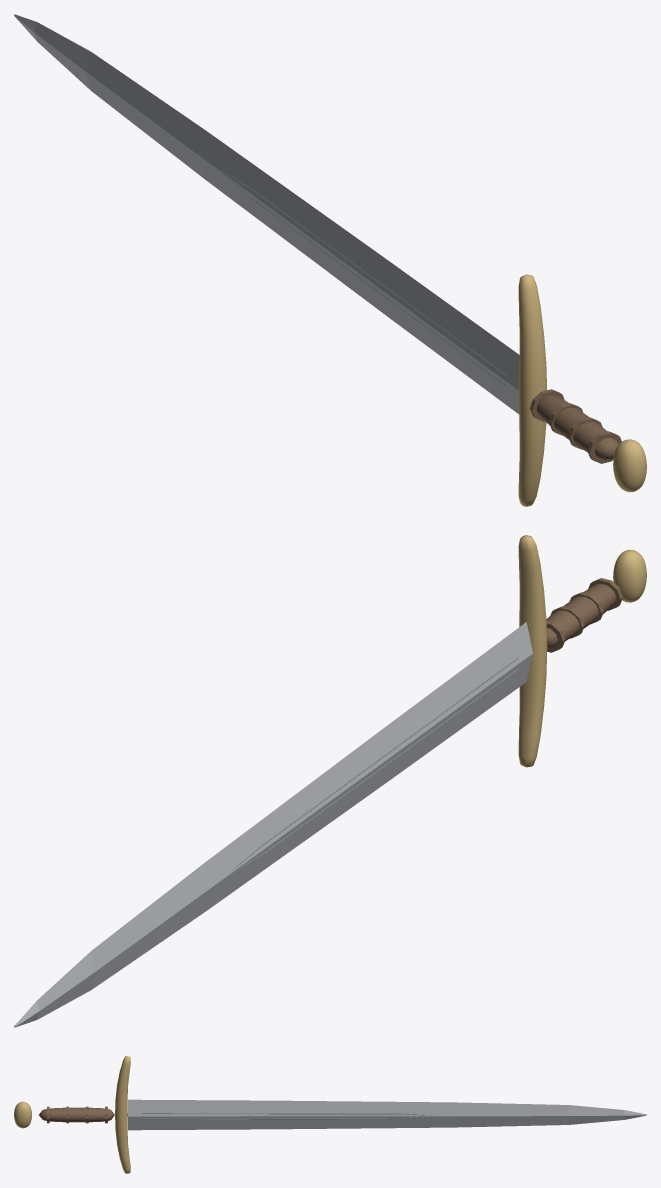
The model's file is sword.glb.
3 views of the same model, one above another, from view 1: azimuth 30°, elevation 25°; view 2: azimuth 150°, elevation 25°; view 3: azimuth 270°, elevation 25° (orthographic). The views are drawn at different scales.
Parts seen in each view (by area): view 1: sword, sword-unlined; view 2: sword, sword-unlined; view 3: sword, sword-unlined.
Boxes of the visible parts, <box> form: sword: <box>14,14,646,506</box>; sword-unlined: <box>219,169,507,387</box>; sword: <box>14,535,646,1027</box>; sword-unlined: <box>229,657,518,875</box>; sword: <box>14,1056,646,1173</box>; sword-unlined: <box>142,1113,435,1119</box>.
Bounding box in the file's own units: 0.03 × 0.1998 × 0.978.
